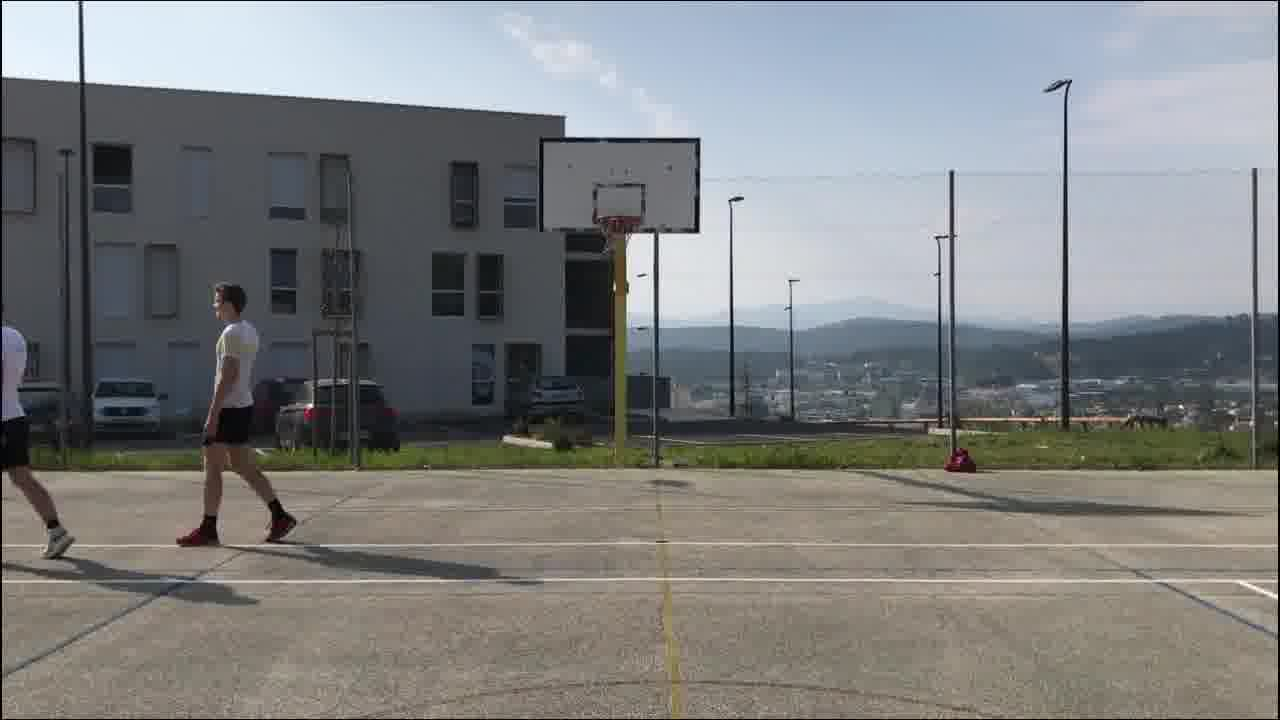jugador: (164, 273, 306, 558)
